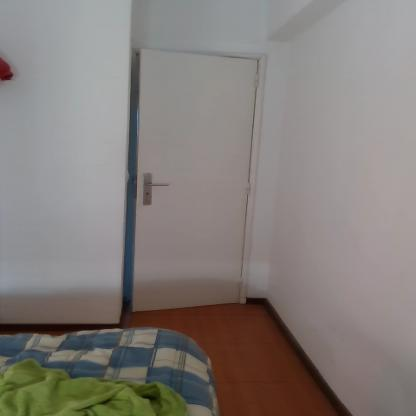door: (136, 50, 252, 306)
hinged: (252, 71, 262, 89), (240, 275, 245, 292), (246, 180, 252, 194)
lever: (142, 181, 172, 188)
